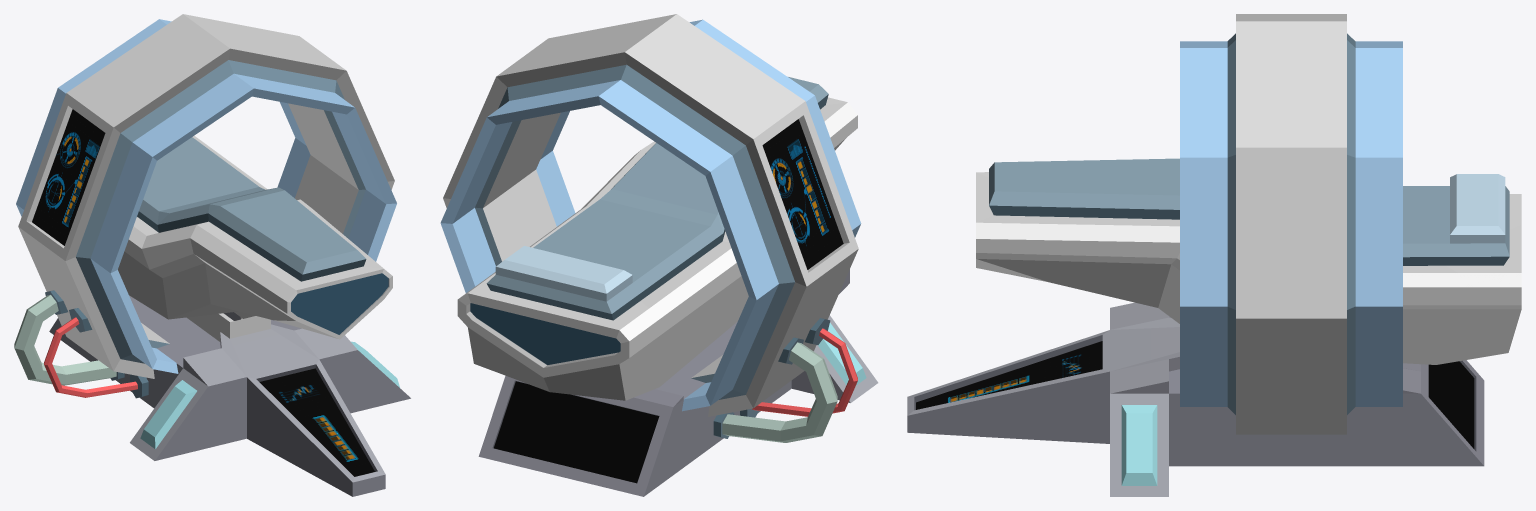
Rendered from HealthBed_01.glb.
3 views of the same model, side by side, from view 1: azimuth 30°, elevation 25°; view 2: azimuth 150°, elevation 25°; view 3: azimuth 270°, elevation 25° (orthographic). The views are drawn at different scales.
Visible parts, largest first — view 1: HealthBed_01; view 2: HealthBed_01; view 3: HealthBed_01.
Boxes of the visible parts, x1,y1,x2,y2 form: HealthBed_01: (14,14,410,496); HealthBed_01: (440,14,878,496); HealthBed_01: (907,14,1521,496).
Size of what is drawn, in the model's own units: 1.67 by 1.58 by 2.18.
Materials: 2 (2 with a texture image).
